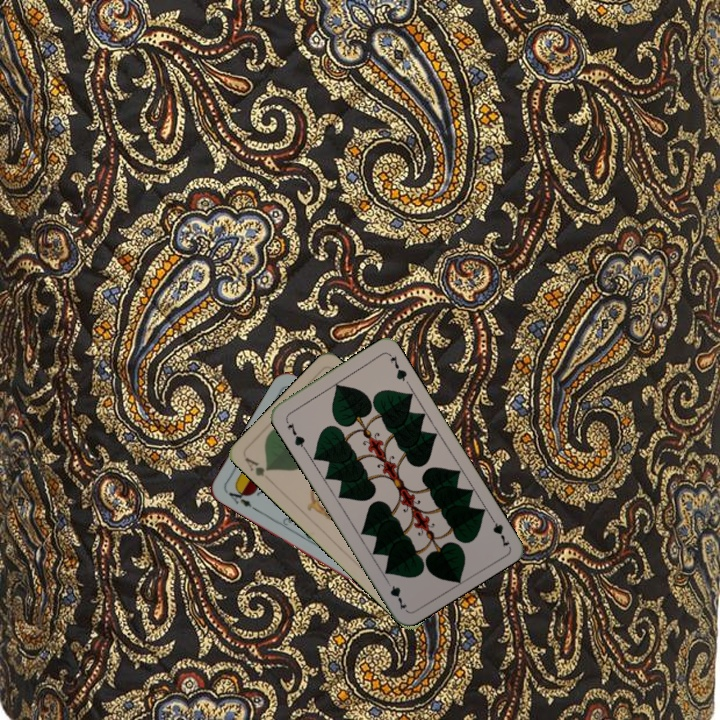EA: (222, 484, 259, 513)
G7: (485, 511, 512, 550), (282, 415, 308, 452)
GA: (241, 453, 273, 479)
